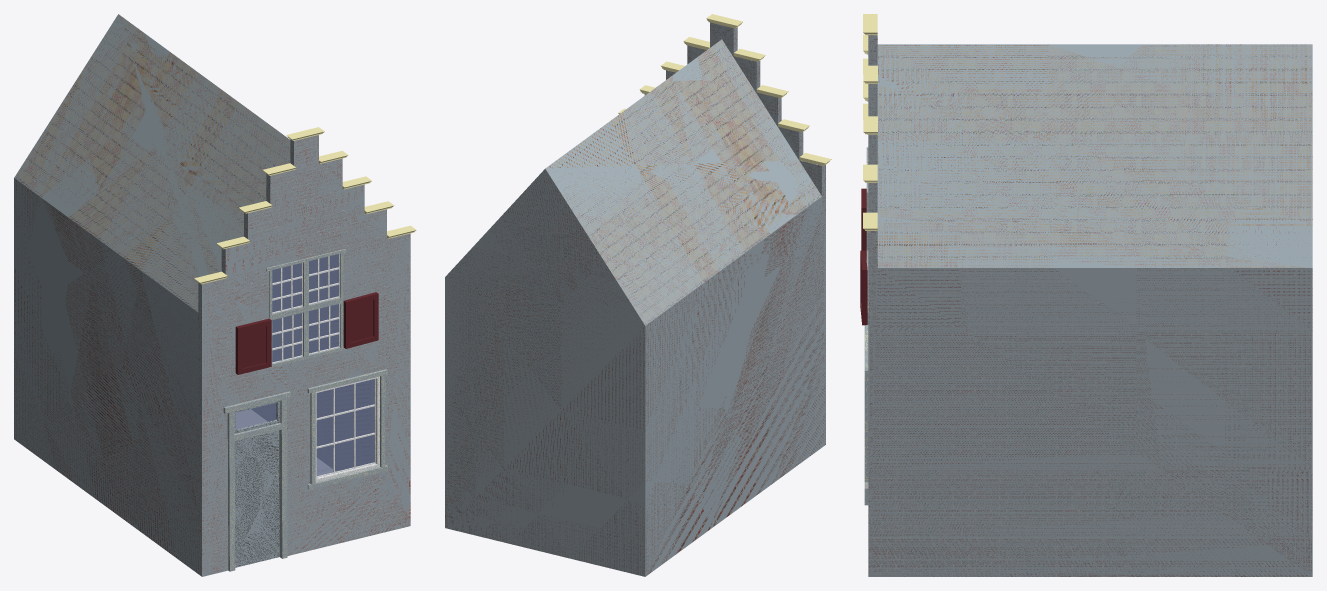
Rendered from House4.fbx.
3 renders of one model, left to right at view 1: azimuth 30°, elevation 25°; view 2: azimuth 150°, elevation 25°; view 3: azimuth 270°, elevation 25°, orthographic. The views are drawn at different scales.
Parts seen in each view (by area): view 1: Group1, window2, window1; view 2: Group1; view 3: Group1.
Part boxes in pixels (x1,y1,x2,y2): Group1: (14,14,410,576); window2: (235,318,271,374); window1: (343,292,378,348); Group1: (445,22,825,576); Group1: (864,35,1312,576).
Bounding box in the file's own units: 165 × 305 × 253.
